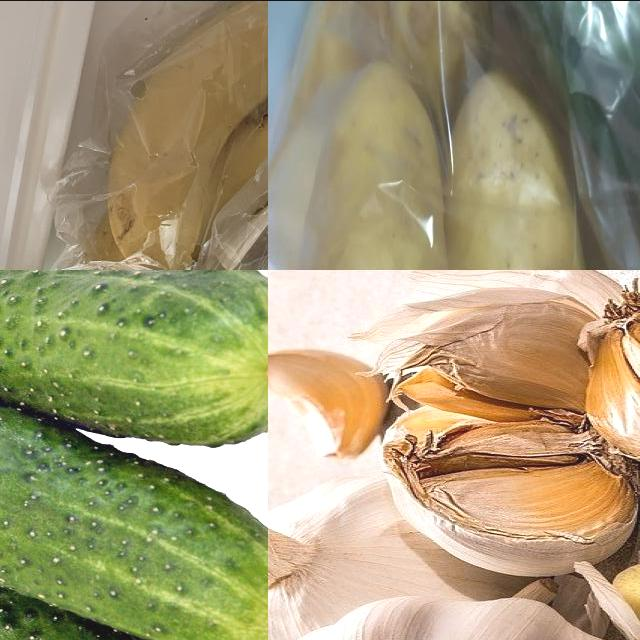cucumber: (1, 360, 269, 640), (1, 270, 269, 456), (1, 513, 247, 640)
garlic: (359, 270, 640, 577), (269, 458, 526, 640)
potato: (269, 1, 467, 270), (427, 65, 588, 270), (291, 62, 448, 270)
